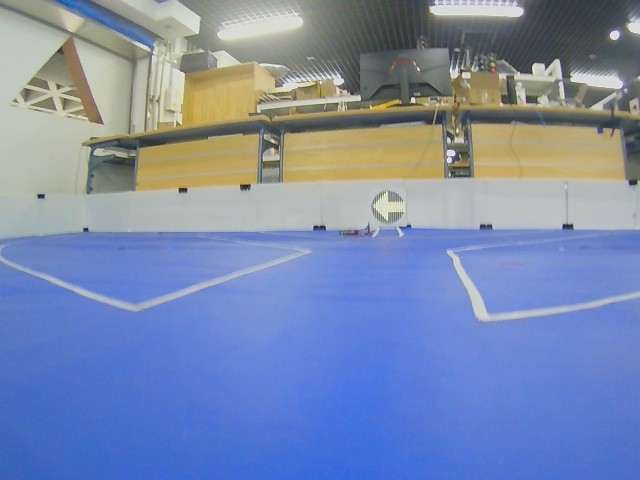left_yellow: (371, 190, 405, 224)
